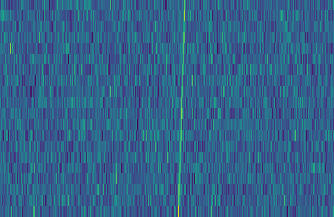signal: (173, 0, 189, 217)
